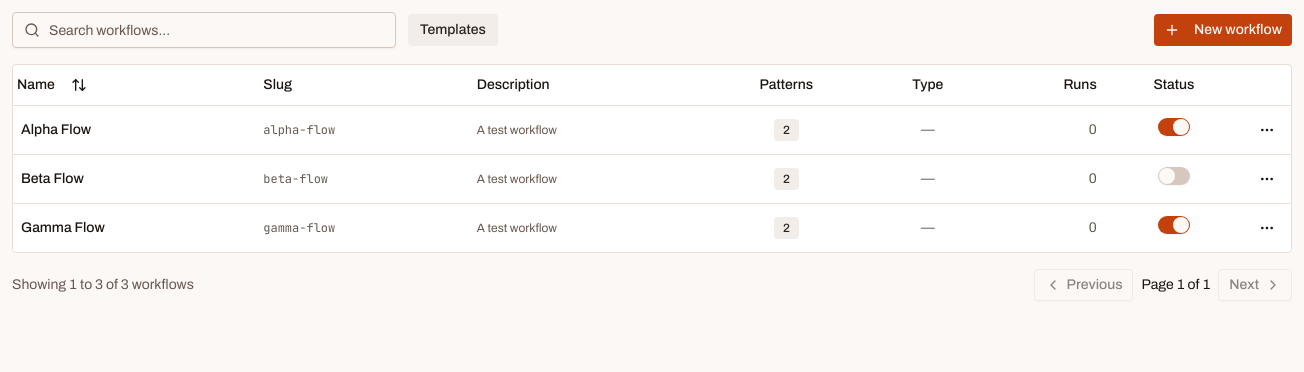
Test: WorkflowsTable › duplicate error handling › shows APIClientError message in error banner when duplicate fails with APIClientError
Click the button named "row actions" in the row of "Alpha Flow" at (1267,130), box top-left (1251, 114), bottom-right (1283, 146)
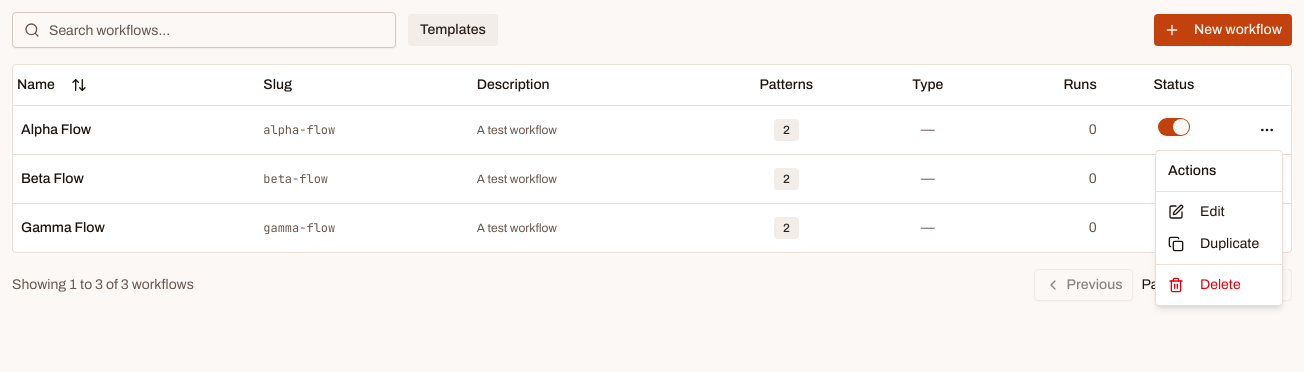
Click the menu item "Duplicate" at (1214,244), box top-left (1168, 236), bottom-right (1259, 252)
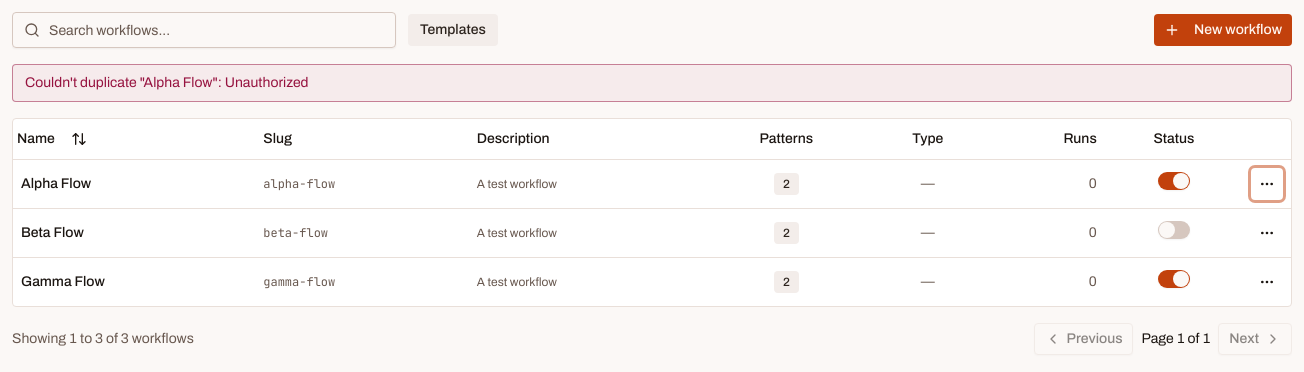
Result: the text "Couldn't duplicate \"Alpha Flow\": Unauthorized" is shown at top-left (12, 64), bottom-right (1292, 102)
